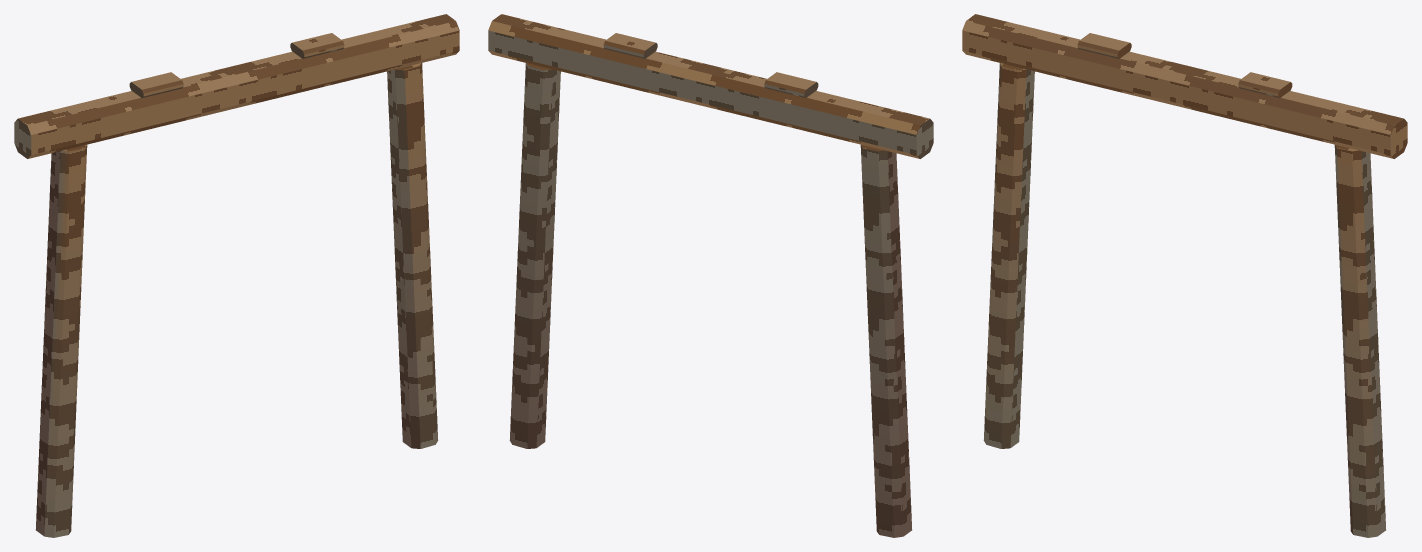
File: wmine.timber_set.glb
3 renders of one model, left to right at view 1: azimuth 30°, elevation 25°; view 2: azimuth 150°, elevation 25°; view 3: azimuth 330°, elevation 25°, orthographic.
Visible parts, largest first — view 1: kit_sets, kit_caps, kit_wedges; view 2: kit_sets, kit_caps, kit_wedges; view 3: kit_sets, kit_caps, kit_wedges.
Part boxes in pixels (box(x1,y1,x2,y2)): kit_sets: box(35, 63, 438, 537); kit_caps: box(14, 14, 459, 158); kit_wedges: box(129, 33, 344, 97); kit_sets: box(509, 63, 912, 537); kit_caps: box(488, 14, 933, 158); kit_wedges: box(603, 33, 818, 97); kit_sets: box(983, 63, 1386, 537); kit_caps: box(962, 14, 1407, 158); kit_wedges: box(1077, 33, 1292, 97).
Size of the model in its own units: 3.2 by 3.03 by 0.22.
Materials: 2 (2 with a texture image).
